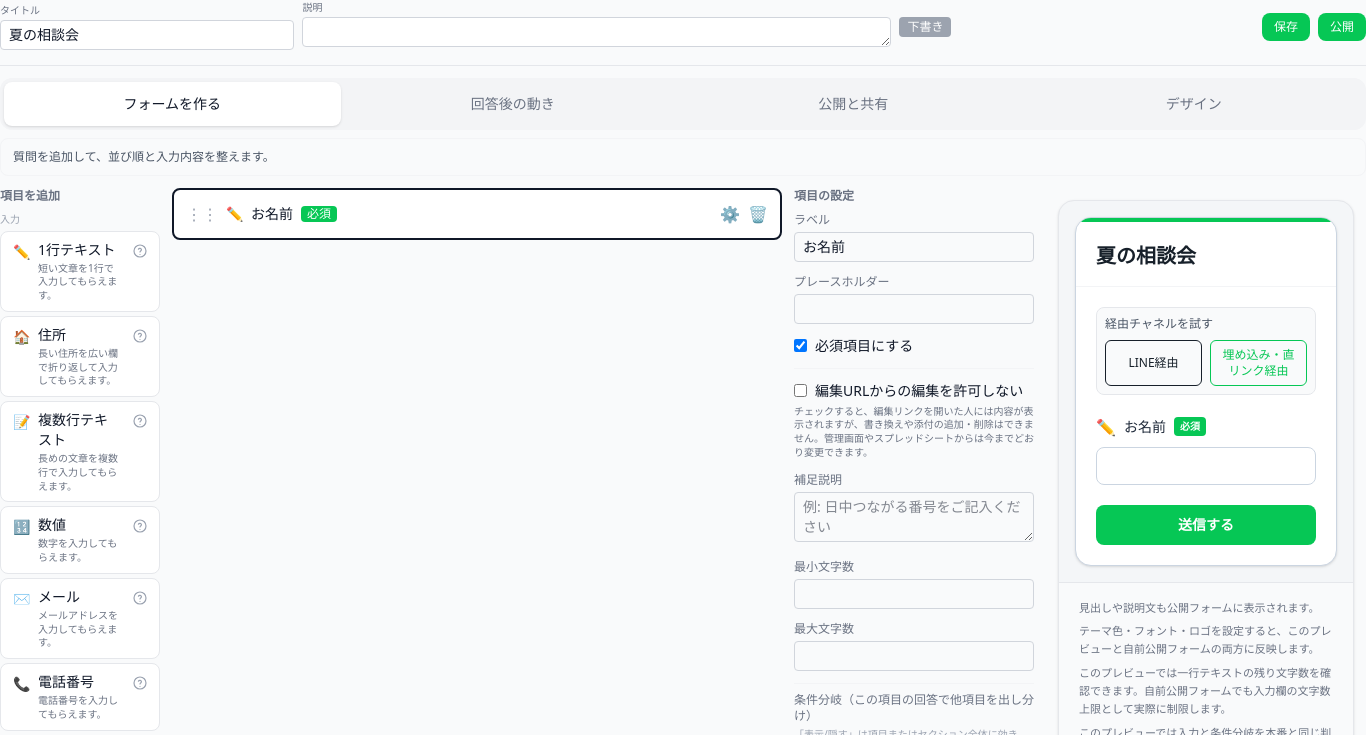
Test: internal publish confirmation › fails closed when save succeeds without a confirmation revision
Click the button "公開" at (1342, 26), box [1318, 12, 1365, 40]
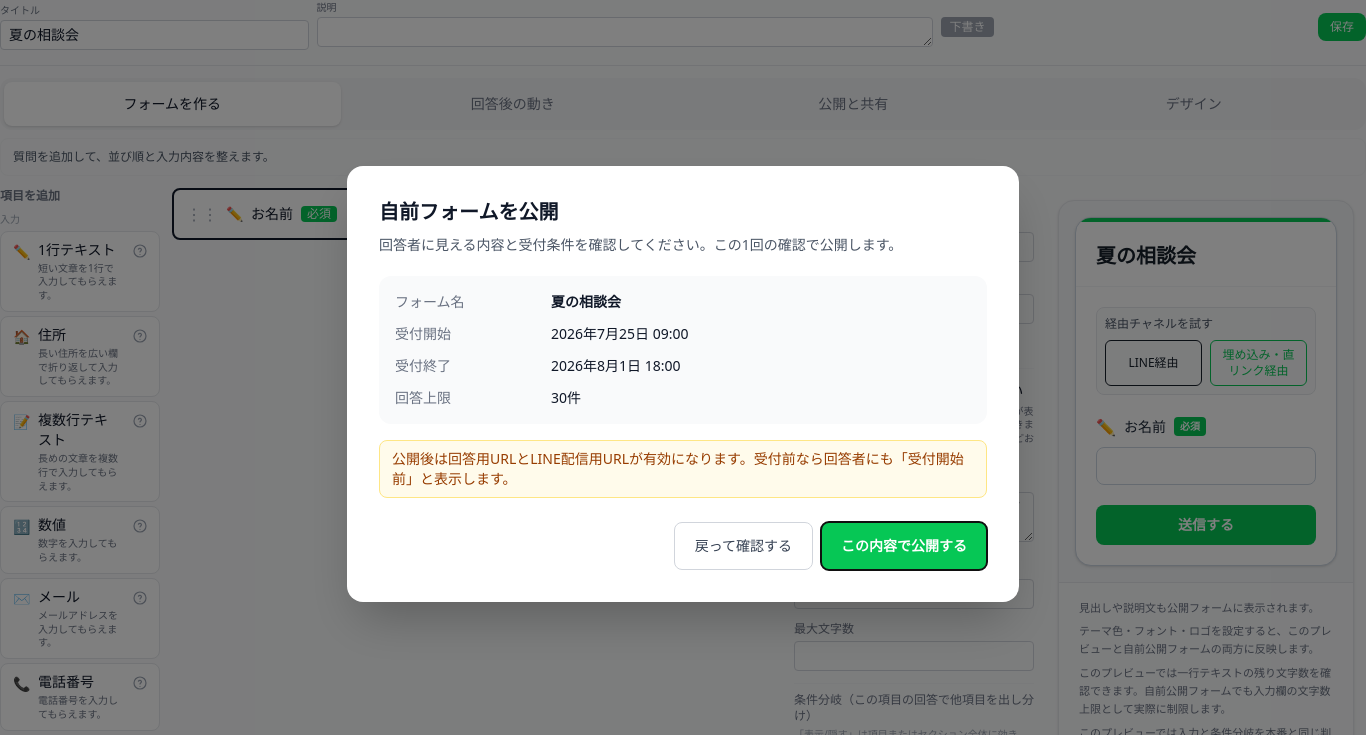
Click the button "この内容で公開する" at (904, 546), box [821, 522, 987, 570]
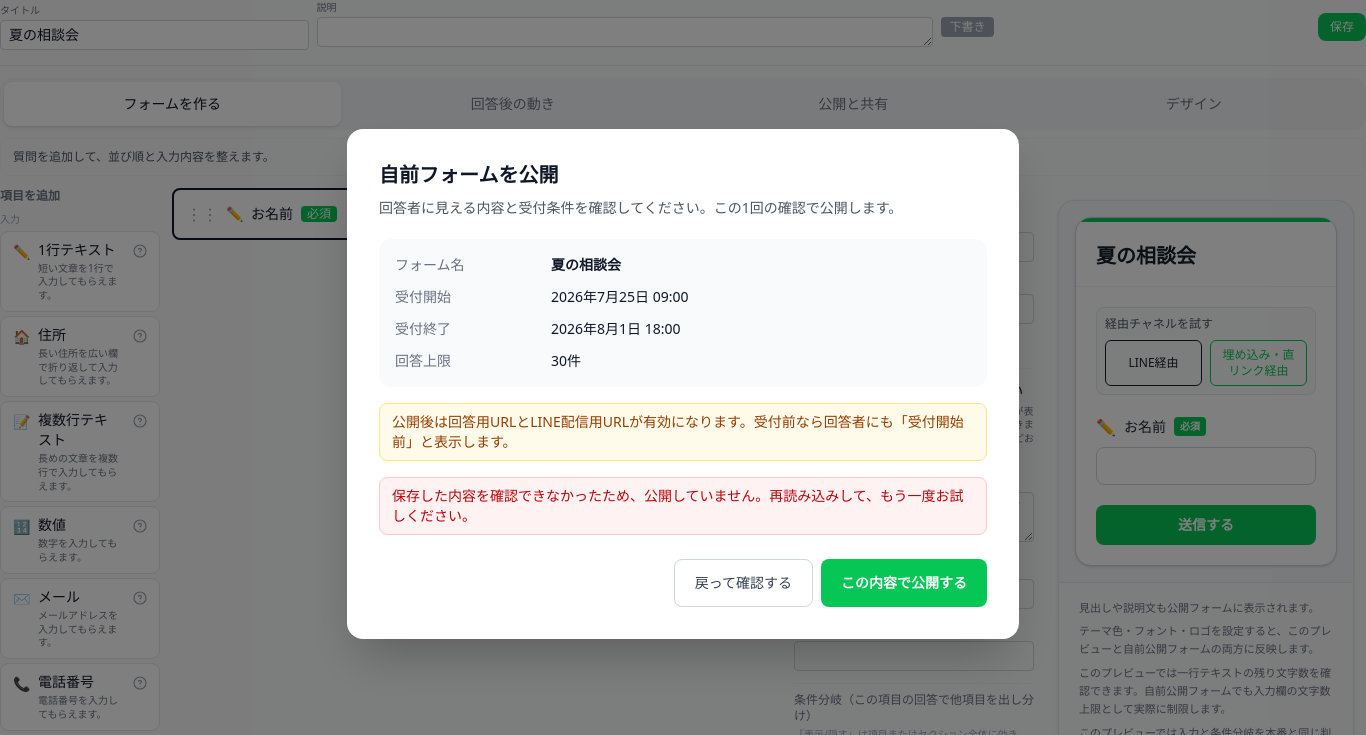
Expected: the dialog "自前フォームを公開" is shown, [347, 129, 1019, 639]
Expected: the message shows "保存した内容を確認できなかった", [392, 486, 964, 525]
